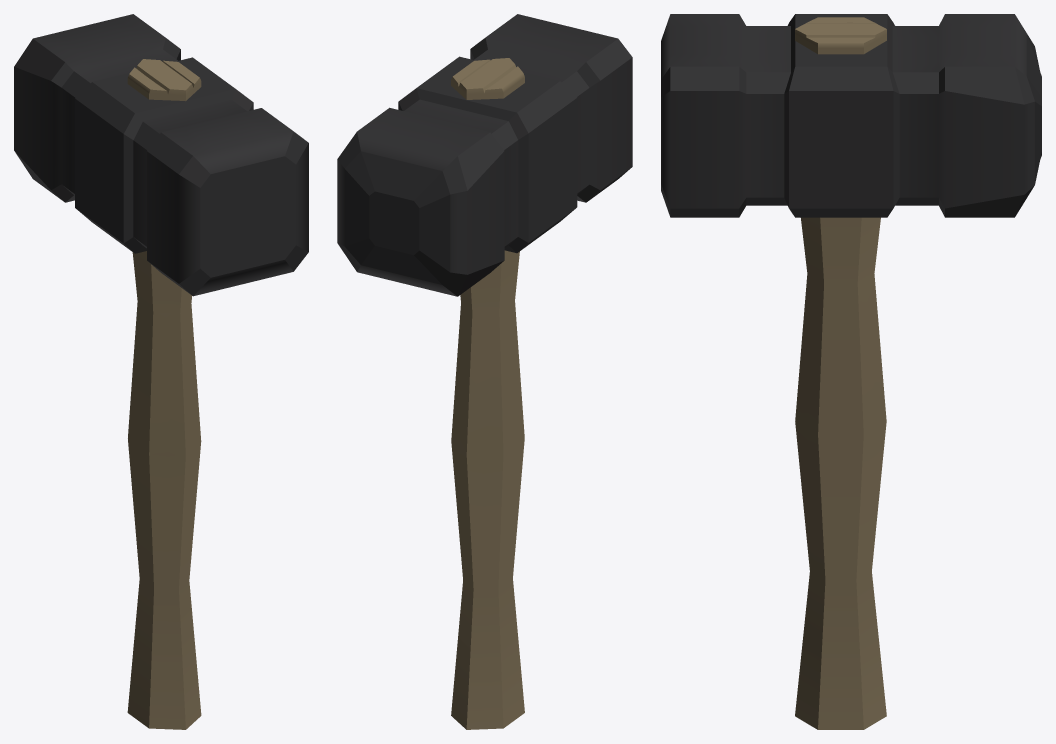
The model's file is Hammer.fbx.
3 views of the same model, side by side, from view 1: azimuth 30°, elevation 25°; view 2: azimuth 150°, elevation 25°; view 3: azimuth 270°, elevation 25° (orthographic). The views are drawn at different scales.
Visible parts, largest first — view 1: pCylinder2; view 2: pCylinder2; view 3: pCylinder2.
Part boxes in pixels (x1,y1,x2,y2): pCylinder2: [14, 14, 308, 729]; pCylinder2: [337, 14, 632, 729]; pCylinder2: [661, 14, 1041, 729].
Size of the model in its own units: 1.34 by 6.32 by 3.18.
